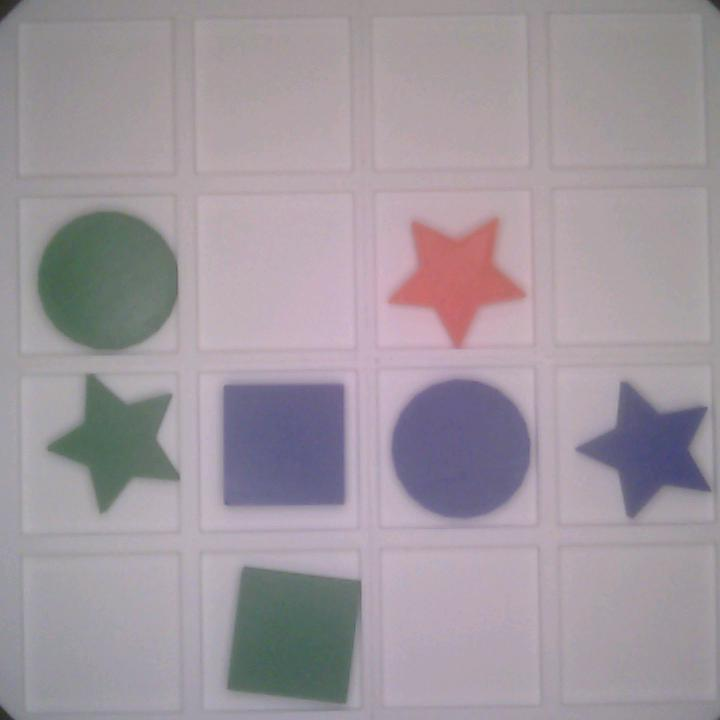Blue circle: (390, 376, 537, 519)
Blue square: (211, 373, 354, 514)
Blue star: (577, 378, 712, 520)
Green circle: (32, 208, 178, 356)
Green square: (218, 560, 367, 708)
Green star: (36, 375, 186, 512)
Orange star: (385, 209, 529, 344)
